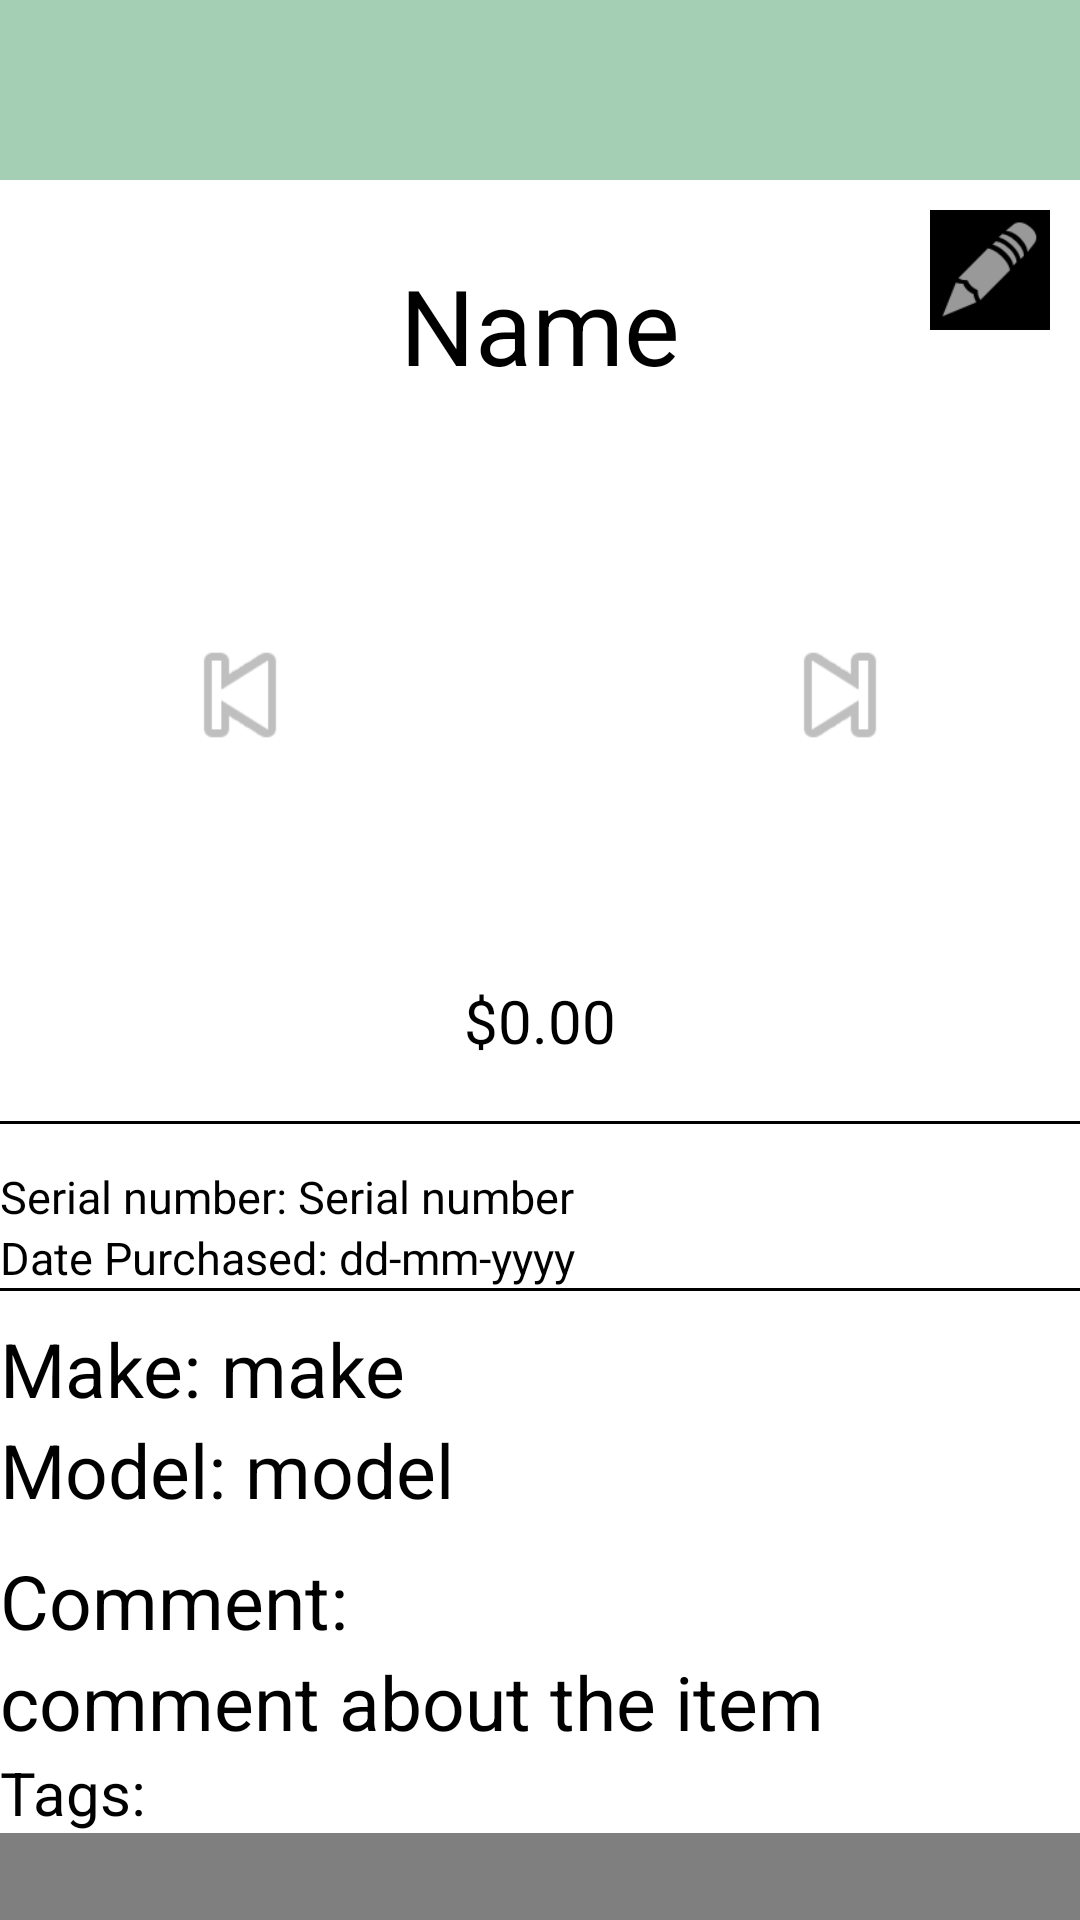

Point at icon controls on the screen. Image size 1080*1920, points as (x,y).
edit: (990,270)
next: (840,695)
previous: (240,695)
